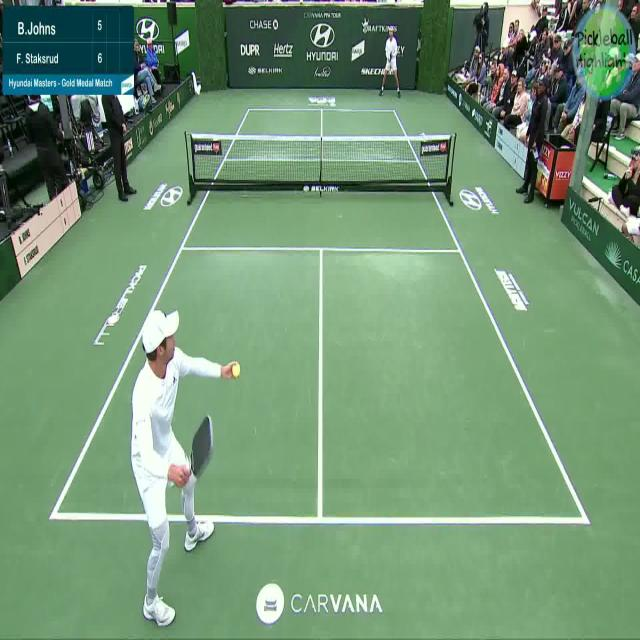ball: (226, 359, 244, 379)
